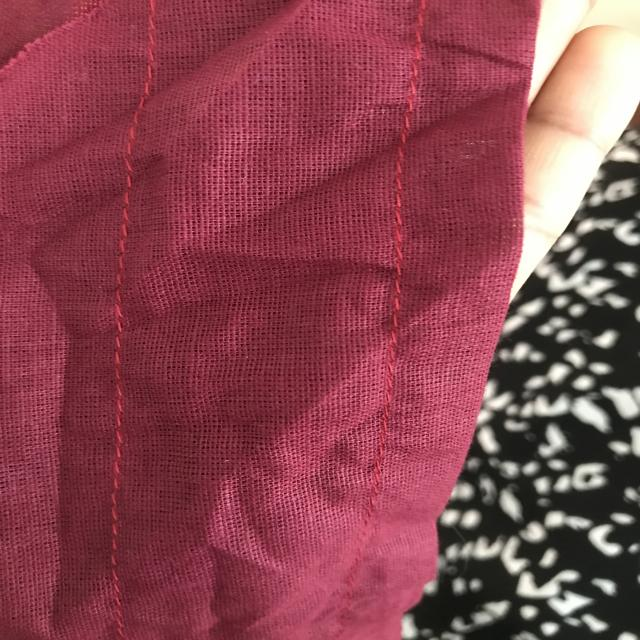good: (96, 459, 138, 552), (111, 197, 150, 276)
